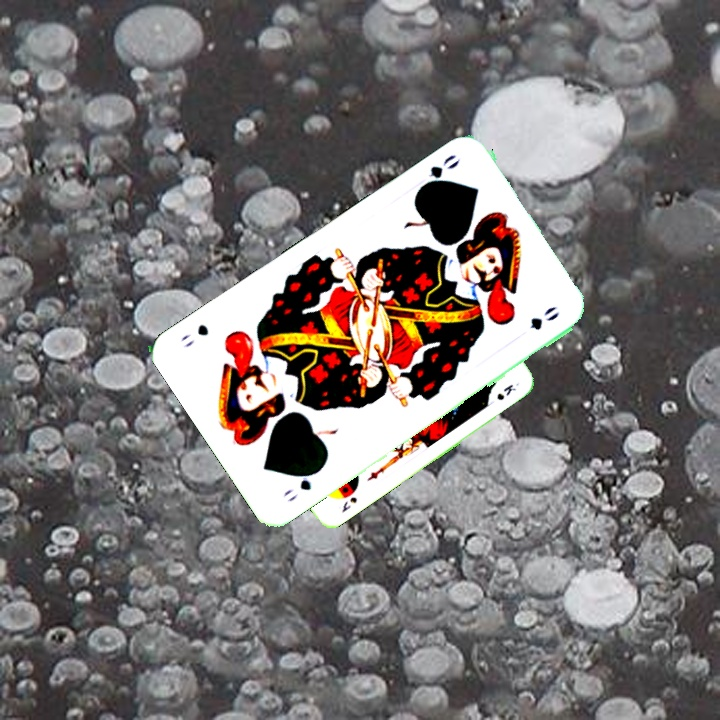GO: (416, 150, 463, 192), (279, 464, 325, 505)
SK: (337, 493, 360, 515)
